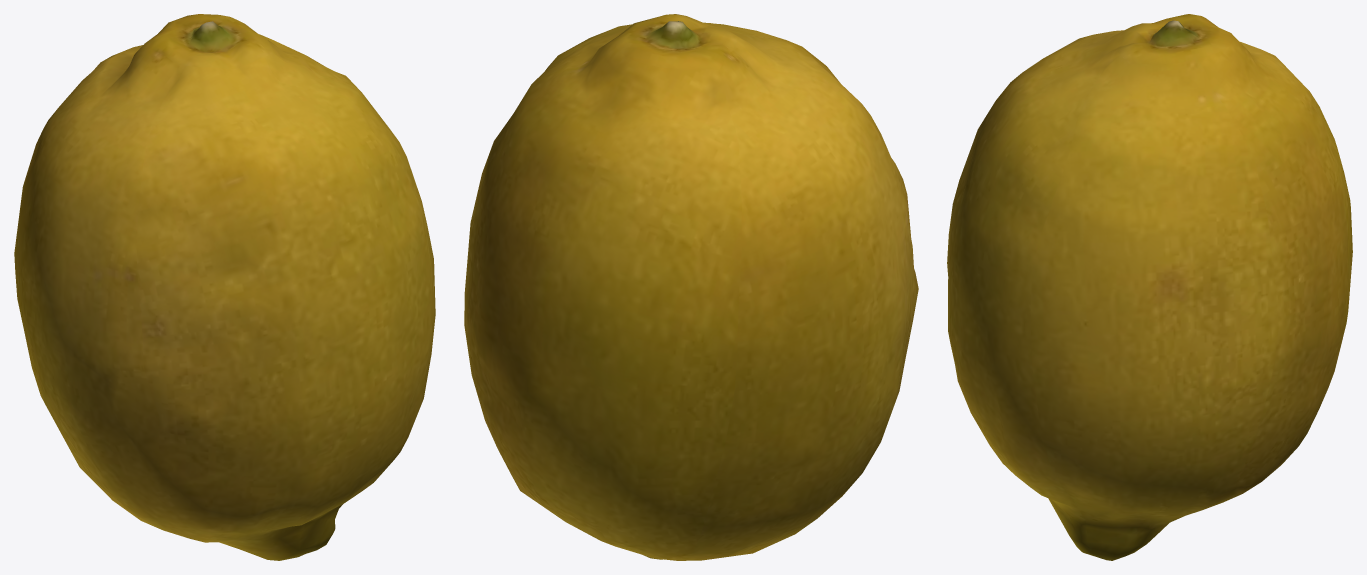
File: lemon.glb
3 views of the same model, side by side, from view 1: azimuth 30°, elevation 25°; view 2: azimuth 150°, elevation 25°; view 3: azimuth 270°, elevation 25° (orthographic). The views are drawn at different scales.
Visible parts, largest first — view 1: lemon; view 2: lemon; view 3: lemon.
Part boxes in pixels (box(x1,y1,x2,y2)): lemon: box(14, 14, 435, 560); lemon: box(464, 14, 918, 560); lemon: box(947, 14, 1352, 560).
Bounding box in the file's own units: 0.0686 × 0.0953 × 0.0682.
Materials: 1 (1 with a texture image).
